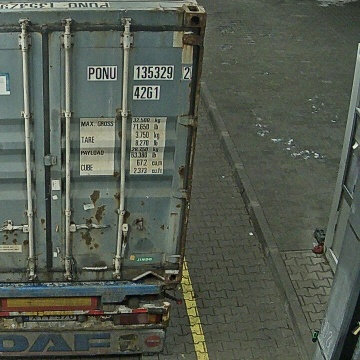serial_id: (88, 66, 189, 79)
